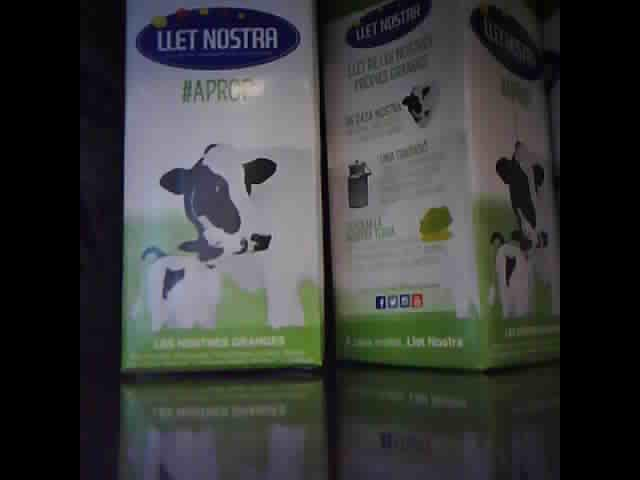leche: (334, 2, 556, 368), (119, 4, 322, 372)
